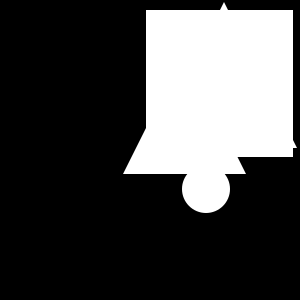circle: (146, 10, 293, 157)
rectangle: (182, 165, 230, 213)
triangle: (151, 2, 297, 148), (123, 51, 246, 174), (178, 10, 280, 112)
